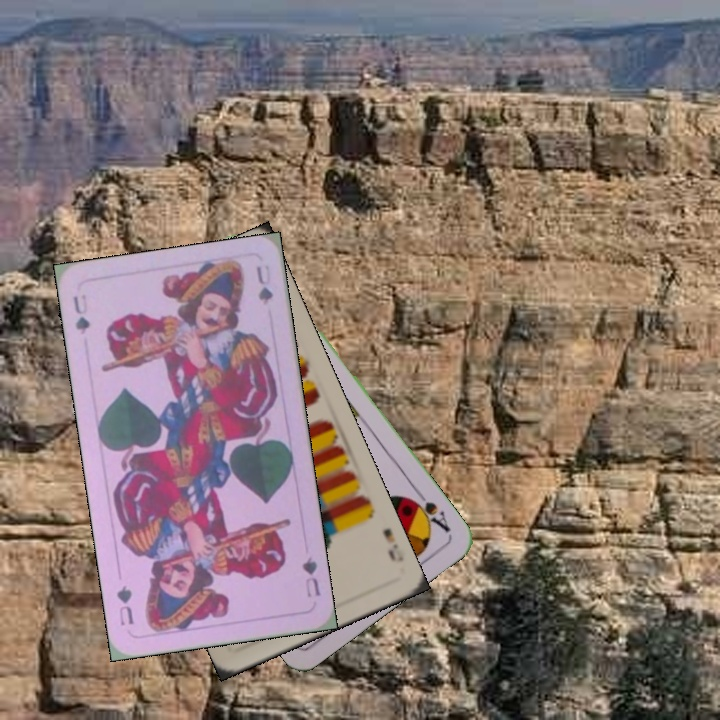E9: (378, 524, 407, 565)
GU: (298, 553, 323, 600), (69, 290, 93, 337)
SA: (404, 485, 454, 535)
